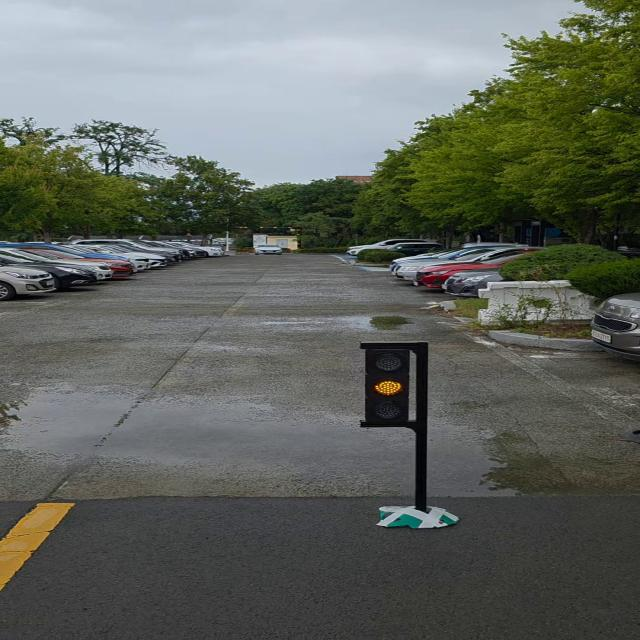yellow: (360, 342, 421, 430)
